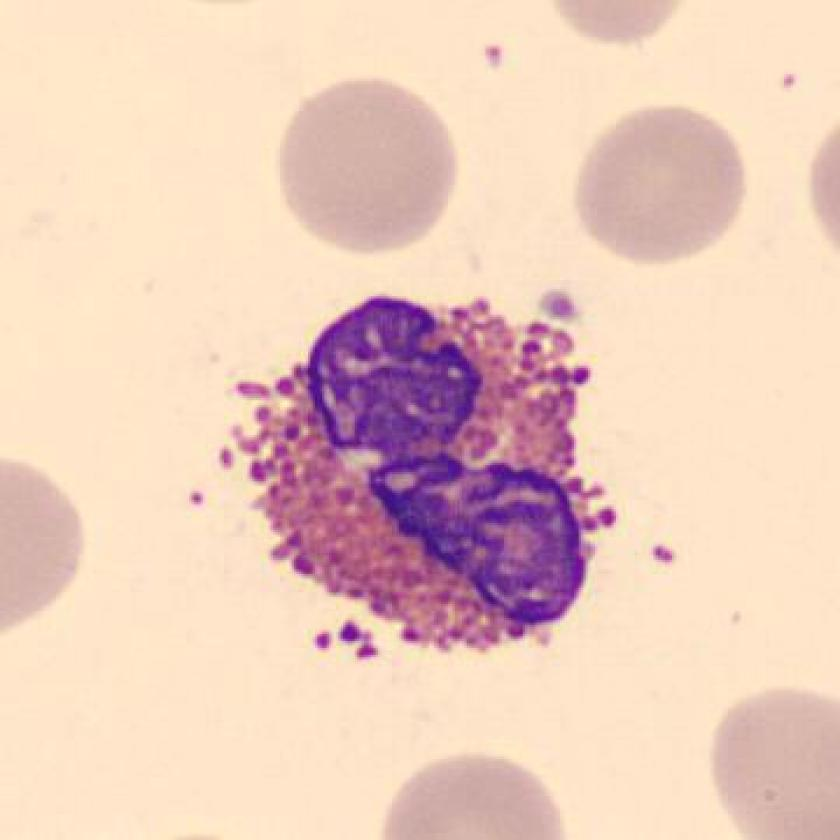eosinophil: (211, 272, 633, 670)
